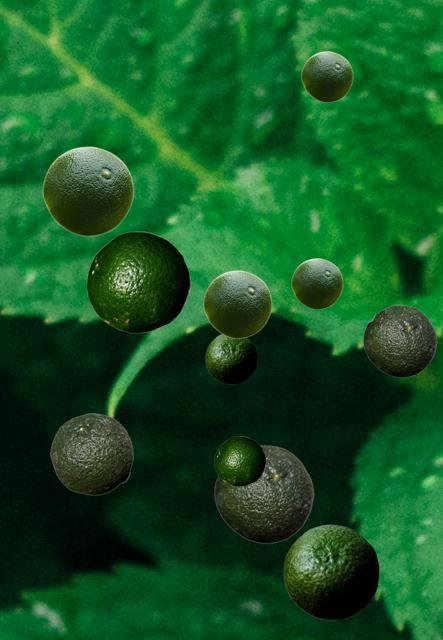calamansi: (86, 231, 190, 332), (214, 445, 313, 542), (283, 524, 378, 619), (42, 146, 133, 235), (50, 413, 132, 494), (363, 305, 436, 376), (203, 270, 271, 337), (291, 258, 342, 308), (301, 51, 352, 101), (205, 334, 256, 383), (214, 436, 265, 485)
